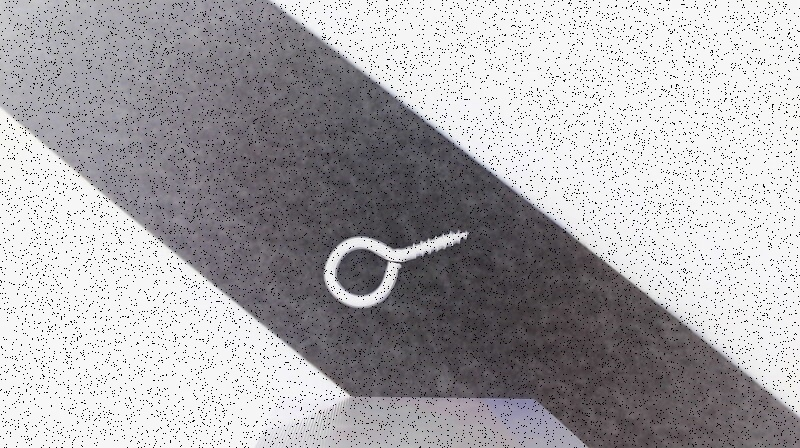O001: (319, 227, 471, 309)
